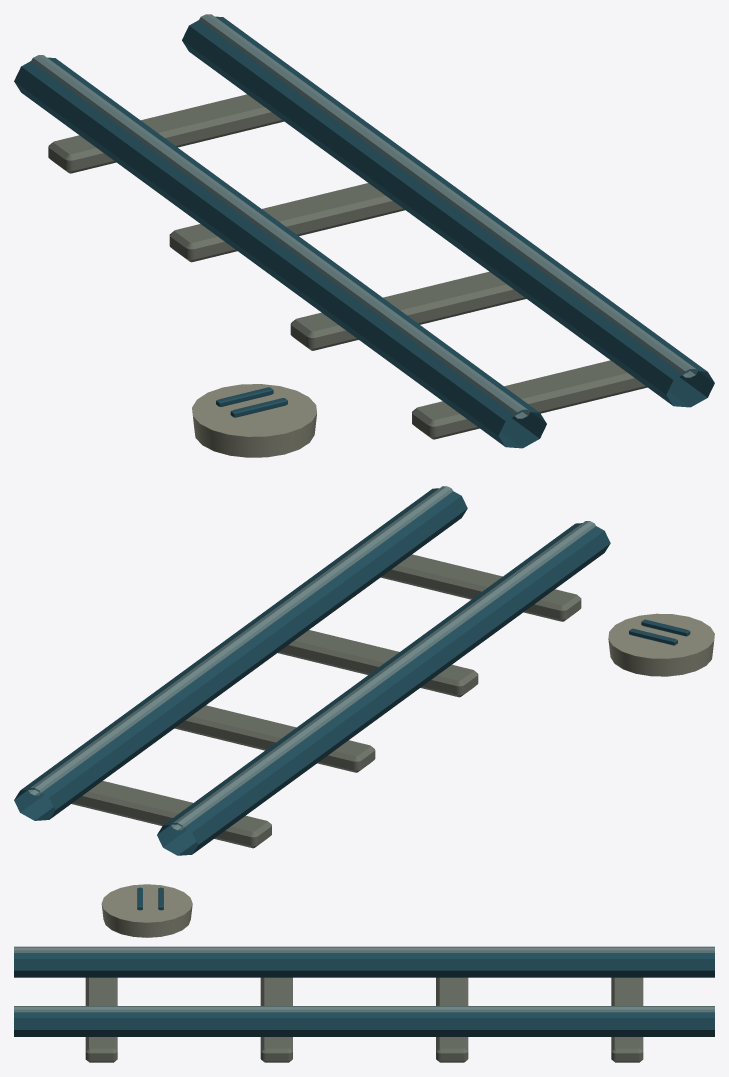
Rendered from voie_droite.glb.
3 renders of one model, top to bottom at view 1: azimuth 30°, elevation 25°; view 2: azimuth 150°, elevation 25°; view 3: azimuth 270°, elevation 25°, orthographic. The views are drawn at different scales.
Visible parts, largest first — view 1: Batch_PaintedMetal, Batch_MatteFitting, Batch_RailHighlight, Batch_Grip; view 2: Batch_PaintedMetal, Batch_MatteFitting, Batch_RailHighlight, Batch_Grip; view 3: Batch_PaintedMetal, Batch_RailHighlight, Batch_MatteFitting, Batch_Grip.
Part boxes in pixels (x1,y1,x2,y2): Batch_PaintedMetal: (14, 16, 714, 448); Batch_MatteFitting: (48, 94, 647, 439); Batch_RailHighlight: (31, 14, 697, 418); Batch_Grip: (192, 384, 316, 457); Batch_PaintedMetal: (14, 488, 690, 855); Batch_MatteFitting: (71, 554, 581, 848); Batch_RailHighlight: (28, 486, 595, 830); Batch_Grip: (608, 613, 714, 676); Batch_PaintedMetal: (14, 887, 714, 1036); Batch_RailHighlight: (14, 946, 714, 1012); Batch_MatteFitting: (85, 977, 643, 1062); Batch_Grip: (101, 884, 192, 937).
Size of the model in its own units: 0.525 by 0.067 by 1.
